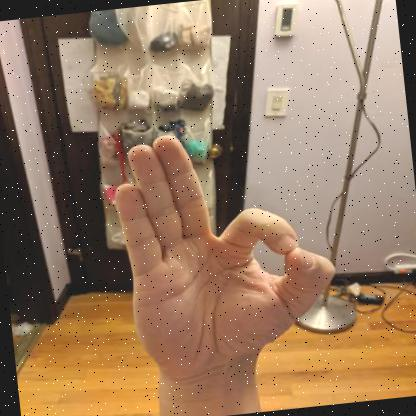F: (114, 132, 335, 375)
